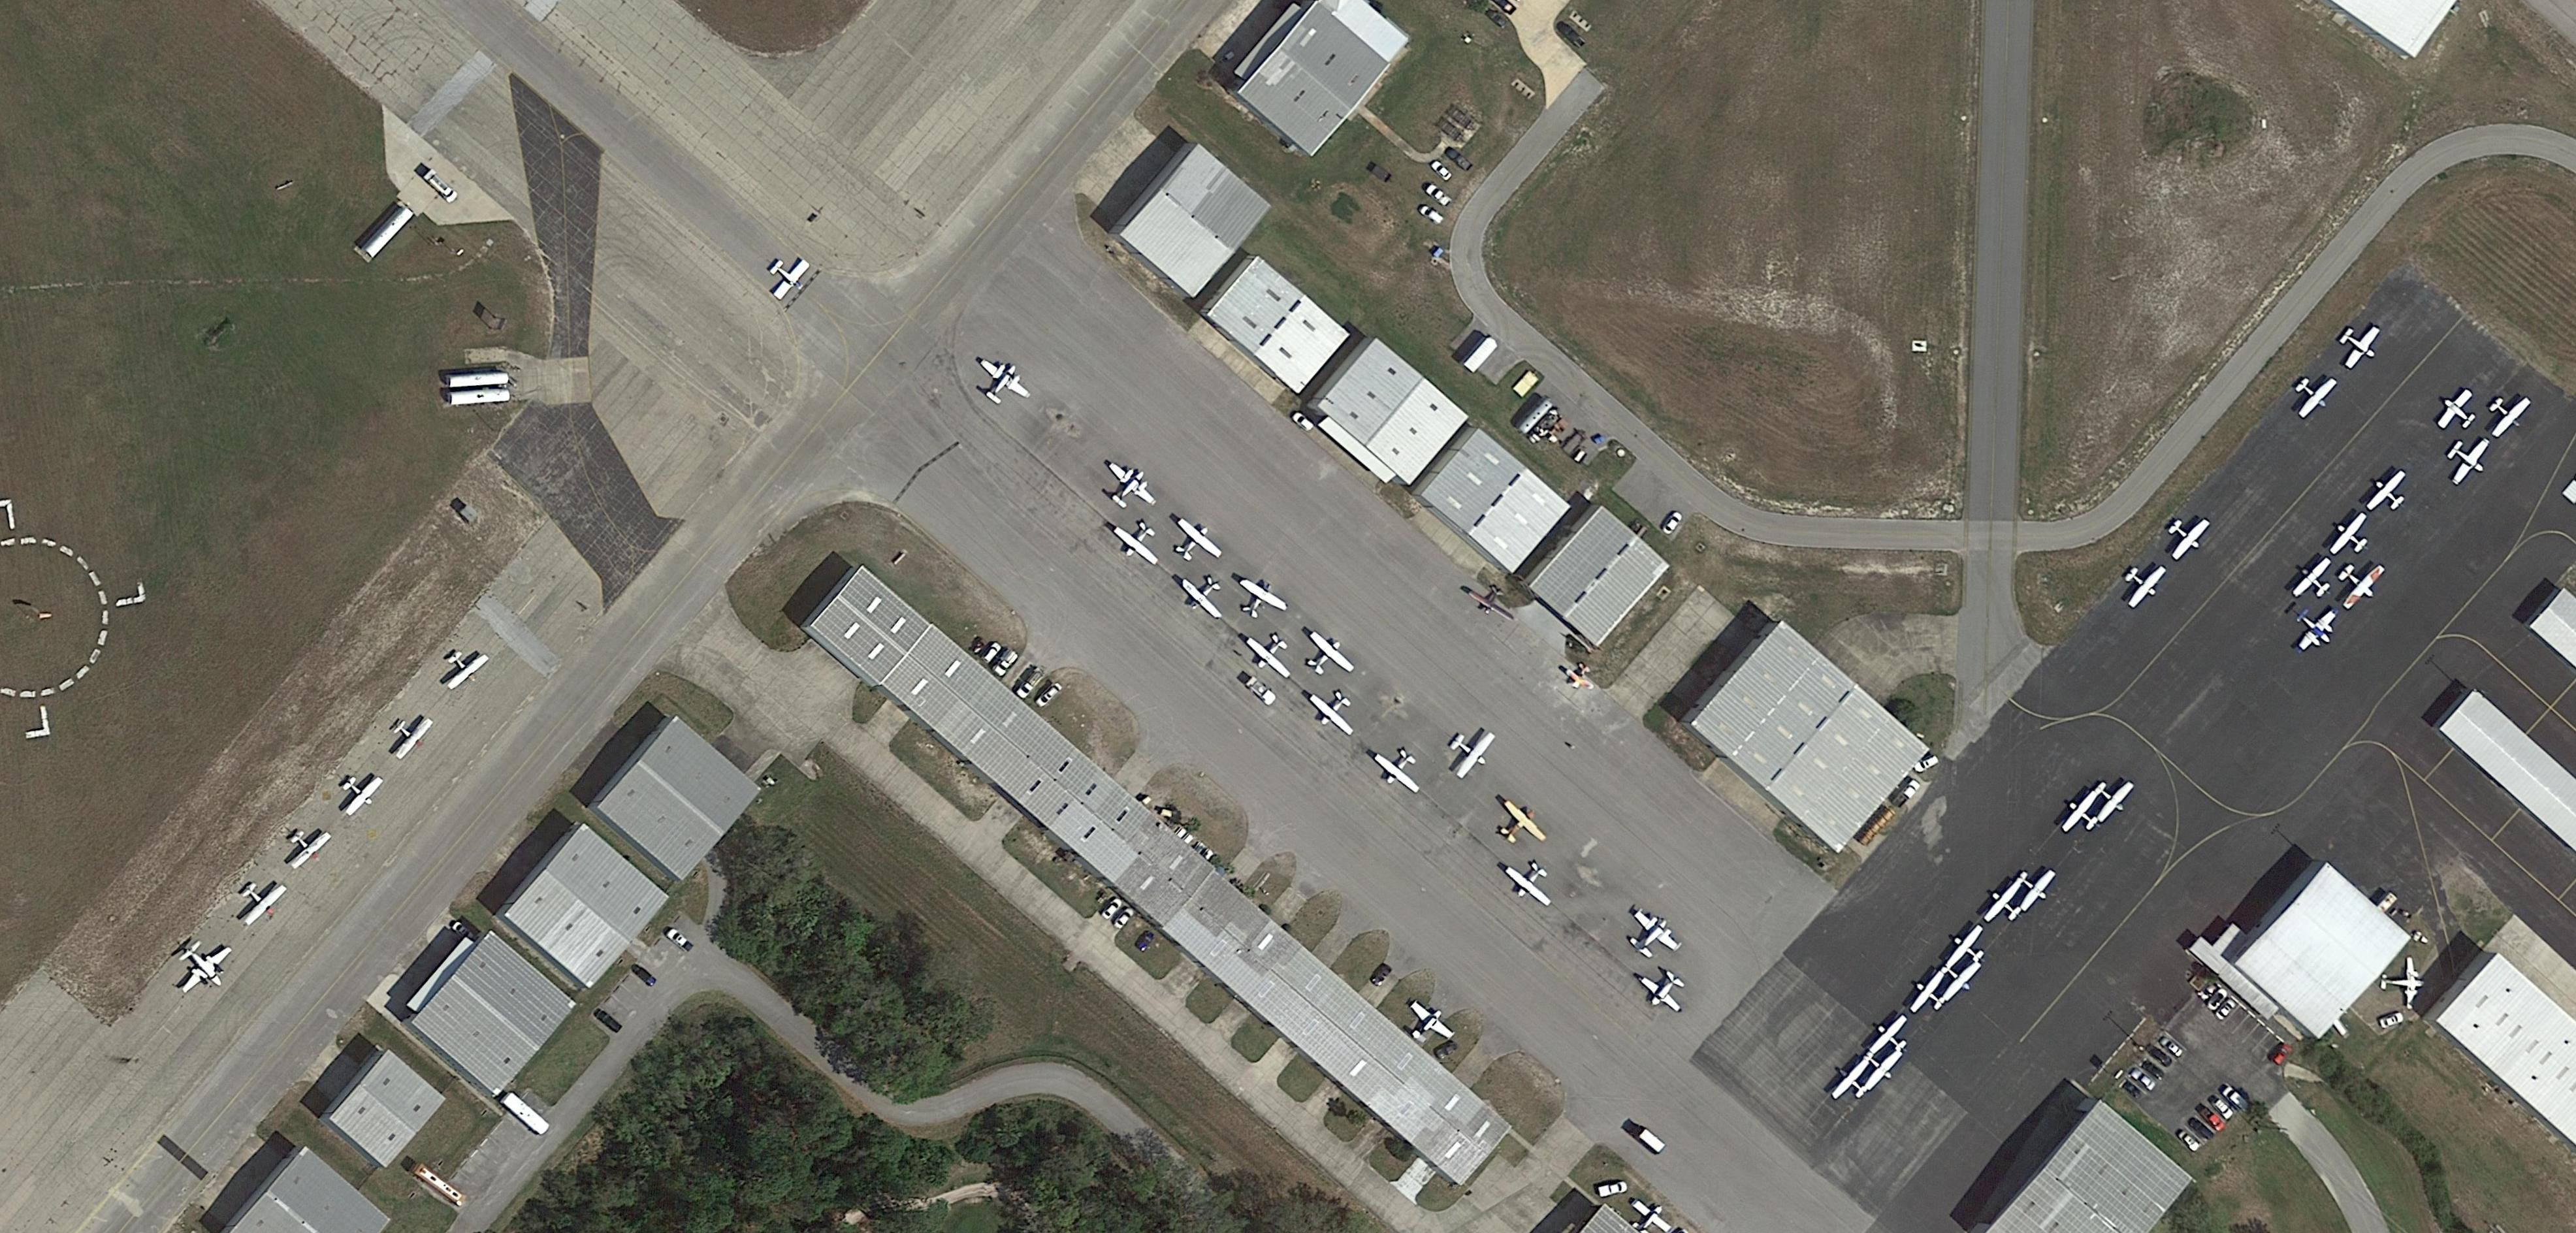plane: (163, 926, 245, 1010), (1093, 451, 1165, 522), (966, 348, 1038, 417), (2280, 594, 2349, 665), (1618, 901, 1689, 970), (2435, 424, 2500, 496), (2326, 548, 2392, 617), (1293, 624, 1362, 690), (1436, 717, 1502, 786), (1495, 850, 1564, 916), (227, 867, 292, 934), (1487, 793, 1554, 859), (1106, 509, 1171, 575), (1367, 737, 1434, 801), (1161, 511, 1227, 575), (1239, 622, 1304, 686), (1173, 565, 1237, 629), (1631, 959, 1697, 1021), (1227, 570, 1295, 630), (2476, 383, 2538, 447), (2328, 314, 2390, 378), (1822, 1051, 1884, 1113), (1925, 946, 1986, 1010), (2155, 504, 2216, 568), (1304, 680, 1365, 744), (2359, 463, 2420, 525), (2003, 855, 2062, 919), (1848, 1036, 1907, 1098), (1939, 918, 1998, 980), (2054, 783, 2113, 846), (2080, 767, 2139, 829), (1398, 995, 1461, 1054), (2113, 553, 2172, 614), (2285, 364, 2344, 425), (276, 816, 335, 877), (329, 762, 388, 823), (1976, 873, 2034, 936), (759, 246, 816, 307), (381, 706, 439, 767), (434, 639, 495, 696), (2323, 504, 2379, 566), (1863, 1008, 1921, 1067), (2289, 550, 2344, 611), (2430, 383, 2487, 440), (1902, 965, 1957, 1024), (1612, 1190, 1681, 1233), (1464, 578, 1521, 626), (2379, 956, 2425, 1013), (1562, 658, 1602, 696)
